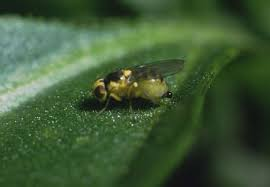Trifoli: (86, 55, 183, 115)
